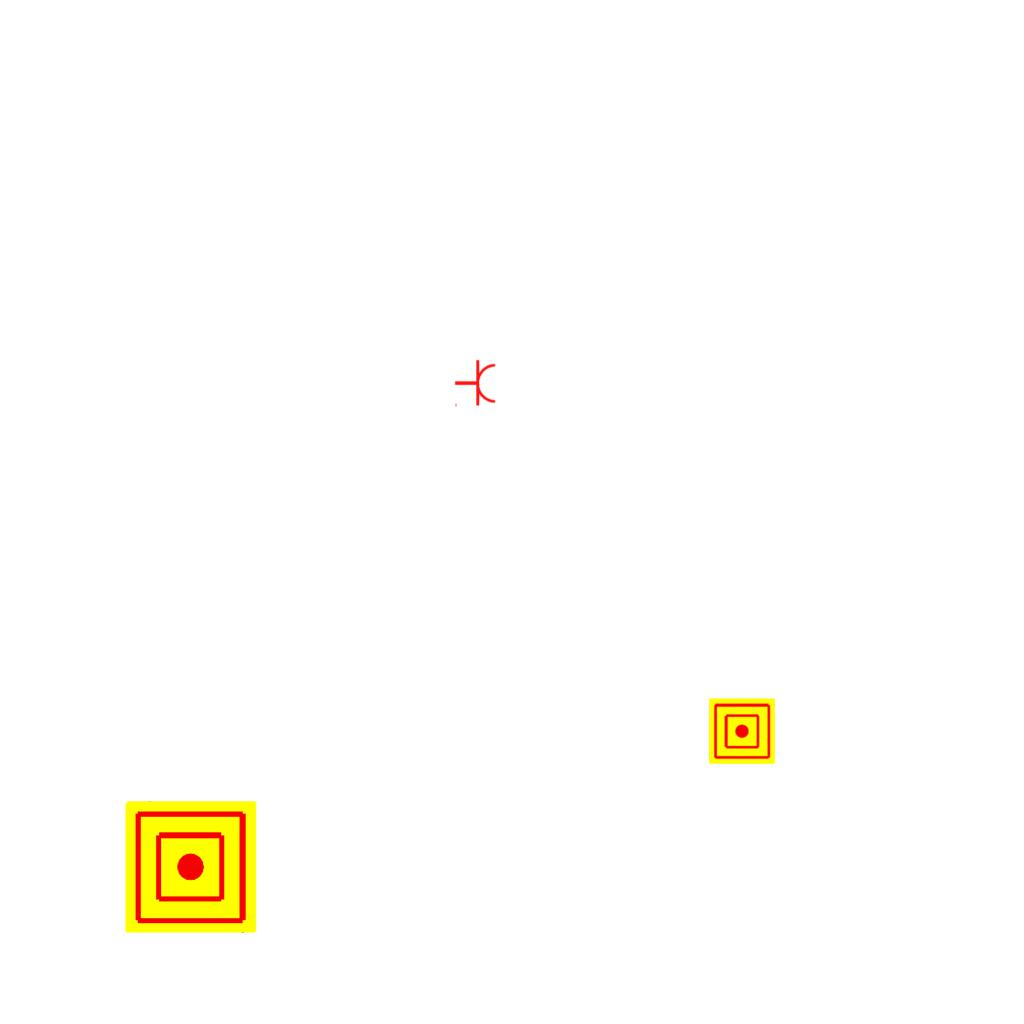NAM-Nichtautomatischer_Melder: (125, 801, 257, 933), (709, 698, 775, 764)
Schukosteckdose_einfach: (454, 359, 497, 409)
